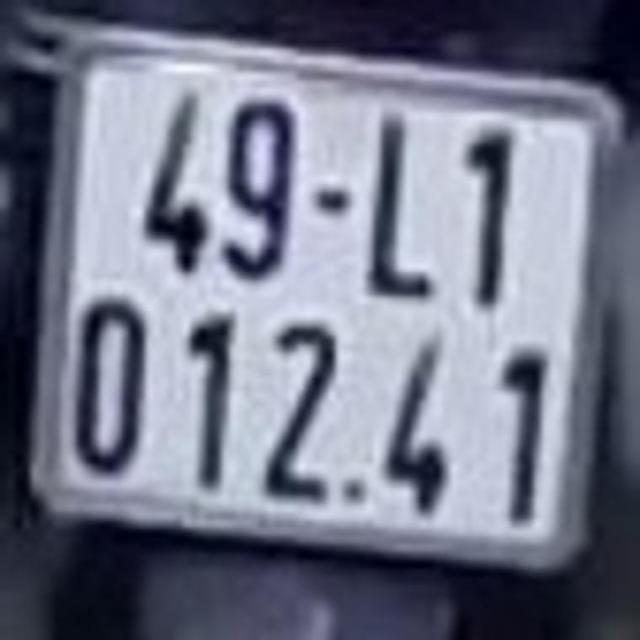0: (70, 287, 150, 476)
1: (489, 335, 554, 530), (178, 302, 242, 496), (458, 118, 519, 310)
2: (261, 311, 338, 505)
4: (378, 324, 458, 519), (137, 85, 212, 276)
9: (221, 89, 298, 284)
L: (363, 102, 440, 304)
